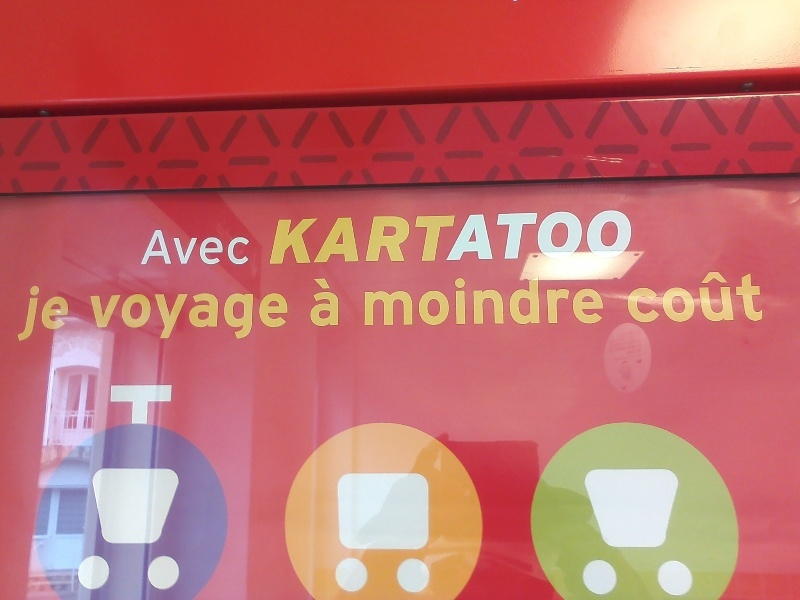text: (33, 284, 48, 344), (49, 284, 64, 344), (625, 270, 640, 329), (641, 270, 656, 329), (657, 270, 672, 329), (673, 270, 688, 329), (689, 270, 704, 329), (705, 270, 720, 329), (721, 270, 736, 329), (737, 270, 752, 329), (289, 210, 304, 266), (305, 210, 320, 266), (321, 210, 336, 266), (337, 210, 352, 266), (353, 210, 368, 266), (369, 210, 384, 266), (385, 210, 400, 266), (401, 210, 416, 266), (417, 210, 432, 266), (433, 210, 448, 266), (449, 210, 464, 266), (465, 210, 480, 266), (481, 210, 496, 266), (497, 210, 512, 266), (513, 210, 528, 266), (529, 210, 544, 266), (545, 210, 560, 266), (561, 210, 576, 266), (577, 210, 592, 266), (593, 210, 608, 266), (609, 210, 624, 266), (273, 290, 289, 342), (753, 270, 767, 329), (369, 273, 384, 327), (385, 273, 400, 327), (401, 273, 416, 327), (417, 273, 432, 327), (433, 273, 448, 327), (449, 273, 464, 327), (465, 273, 480, 327), (481, 273, 496, 327), (497, 273, 512, 327), (513, 273, 528, 327), (529, 273, 544, 327), (545, 273, 560, 327), (561, 273, 576, 327), (577, 273, 592, 327), (625, 210, 639, 266), (97, 290, 112, 342), (113, 290, 128, 342), (129, 290, 144, 342), (145, 290, 160, 342), (161, 290, 176, 342), (177, 290, 192, 342), (193, 290, 208, 342), (209, 290, 224, 342), (225, 290, 240, 342), (241, 290, 256, 342), (257, 290, 272, 342), (321, 277, 336, 327), (277, 210, 288, 266), (593, 273, 604, 327), (161, 229, 176, 266), (177, 229, 192, 266), (193, 229, 208, 266), (209, 229, 224, 266), (225, 229, 240, 266), (310, 277, 320, 327), (609, 330, 624, 363), (625, 330, 640, 363), (87, 290, 96, 342), (241, 229, 251, 266), (65, 284, 71, 344), (337, 277, 342, 327), (29, 284, 32, 344), (365, 273, 368, 327), (156, 229, 160, 266), (604, 330, 608, 363), (622, 270, 624, 329), (641, 330, 644, 363)
